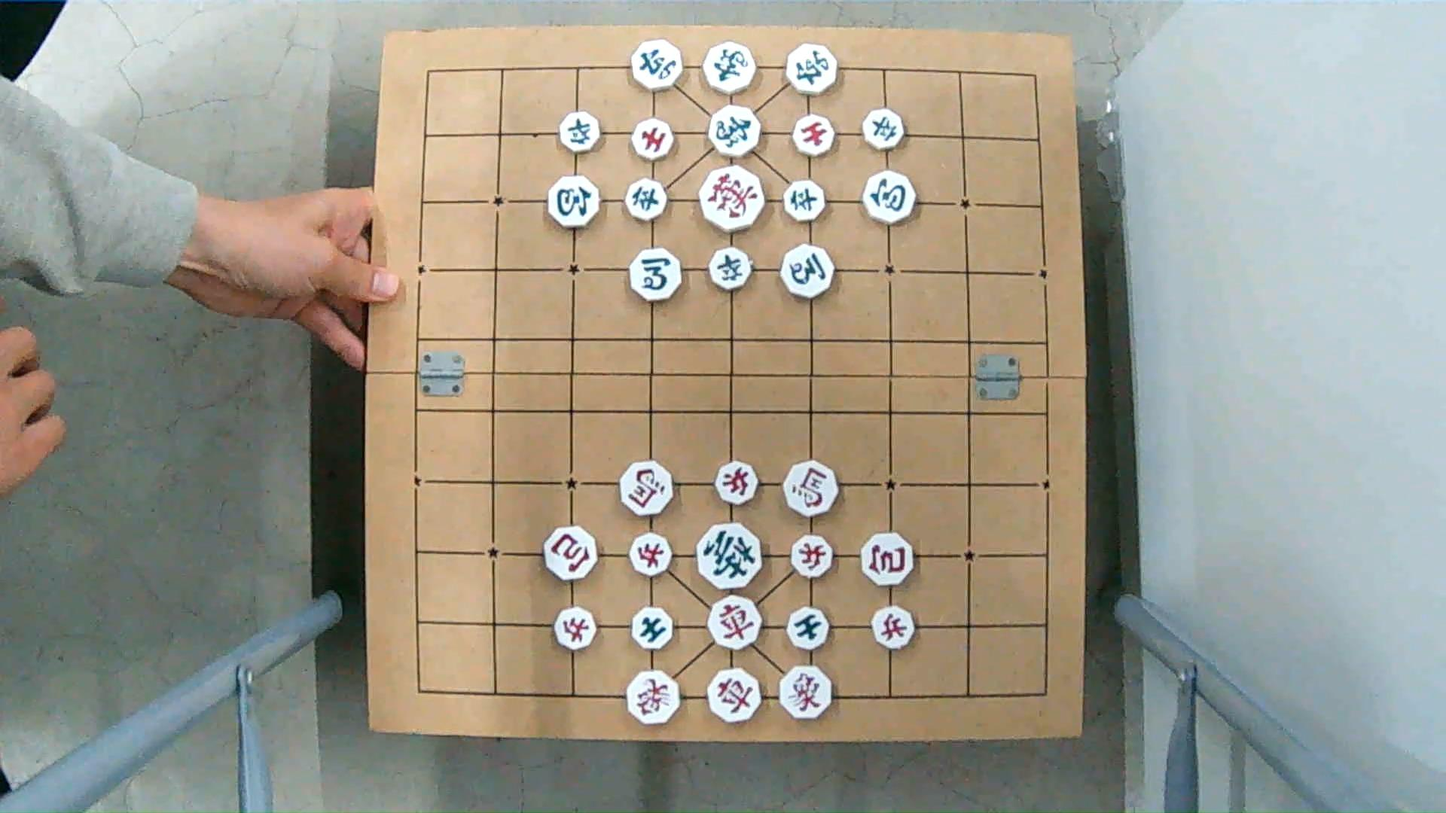cha_green: (784, 47, 843, 92), (629, 43, 686, 88)
cha_red: (704, 600, 766, 650), (703, 670, 765, 720)
jol_green: (706, 248, 755, 288), (782, 182, 830, 221), (861, 112, 908, 150), (555, 114, 601, 151), (625, 178, 668, 217)
jol_red: (626, 535, 676, 574), (868, 608, 917, 647), (552, 610, 600, 649), (792, 534, 833, 578), (716, 461, 758, 501)
ma_green: (779, 248, 839, 297), (627, 251, 684, 300)
ma_red: (618, 465, 679, 515), (782, 467, 842, 513)
po_green: (859, 175, 917, 223), (545, 178, 602, 226)
po_red: (858, 533, 919, 582), (543, 530, 602, 579)
sa_green: (785, 610, 833, 649), (630, 610, 677, 649)
sa_red: (630, 117, 676, 160), (791, 117, 839, 156)
sang_green: (703, 108, 763, 157), (702, 45, 759, 92)
sang_red: (622, 674, 682, 725), (778, 667, 838, 717)
wang_green: (694, 528, 764, 586)
wang_red: (694, 172, 765, 229)
